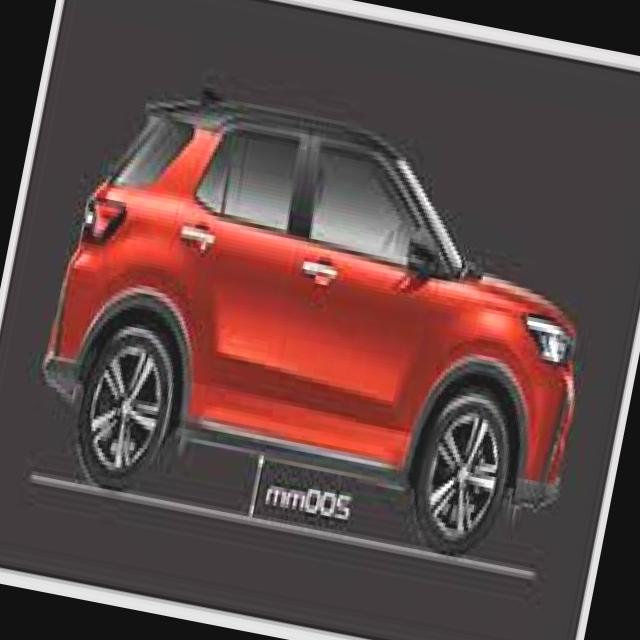PeroduaAtiva: (19, 65, 625, 576)
